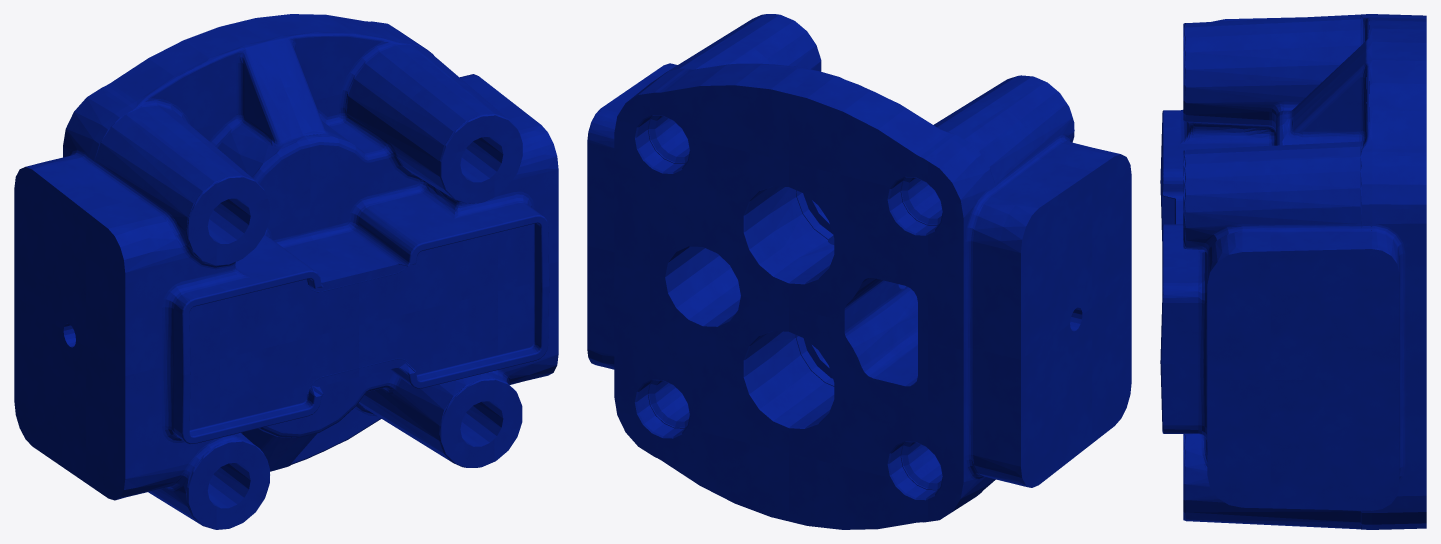
File: Part_blue.glb
3 views of the same model, side by side, from view 1: azimuth 30°, elevation 25°; view 2: azimuth 150°, elevation 25°; view 3: azimuth 270°, elevation 25° (orthographic). The views are drawn at different scales.
Parts seen in each view (by area): view 1: Part; view 2: Part; view 3: Part.
Boxes of the visible parts, x1=… form: Part: x1=14, y1=14, x2=558, y2=529; Part: x1=587, y1=14, x2=1131, y2=529; Part: x1=1160, y1=14, x2=1426, y2=529.
Size of the model in its own units: 0.0875 by 0.0815 by 0.0443.
1 material, 1 textured.
